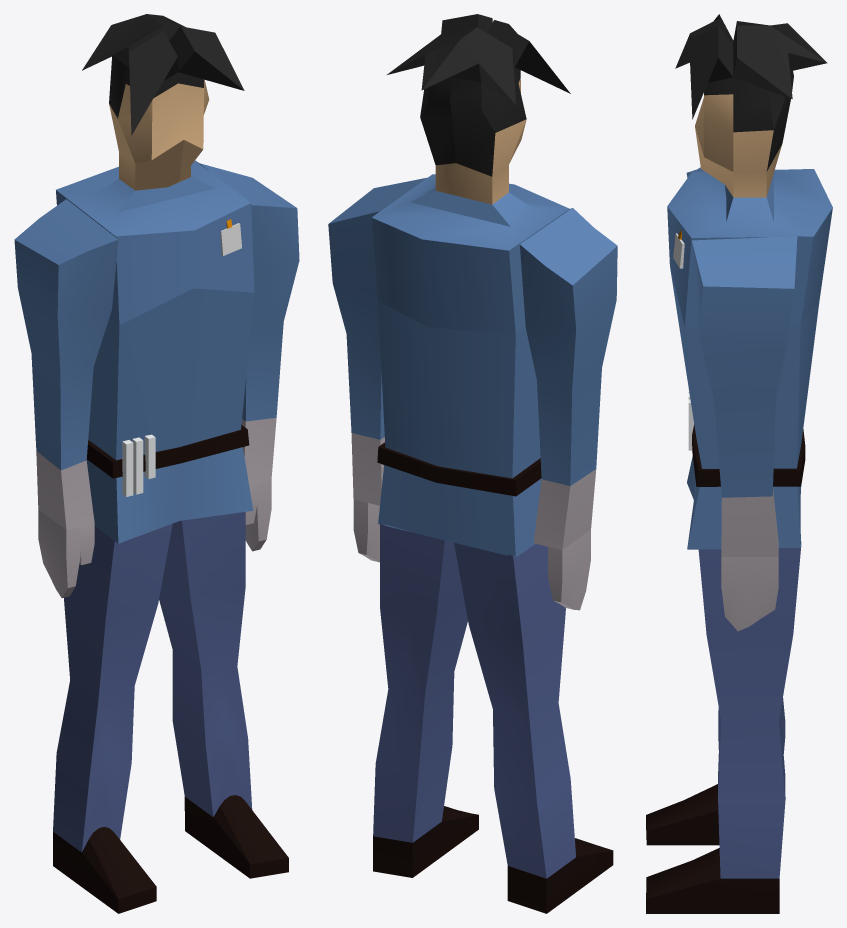
File: Blocky Janitor beta.fbx
The picture shows the model from 3 angles, left to right: view 1: azimuth 30°, elevation 25°; view 2: azimuth 150°, elevation 25°; view 3: azimuth 270°, elevation 25°; orthographic projection.
Visible parts, largest first — view 1: Cube; view 2: Cube; view 3: Cube.
Boxes of the visible parts, x1,y1,x2,y2 form: Cube: (14, 14, 299, 913); Cube: (328, 14, 617, 913); Cube: (646, 14, 832, 913).
Bounding box in the file's own units: 208 × 697 × 139.
